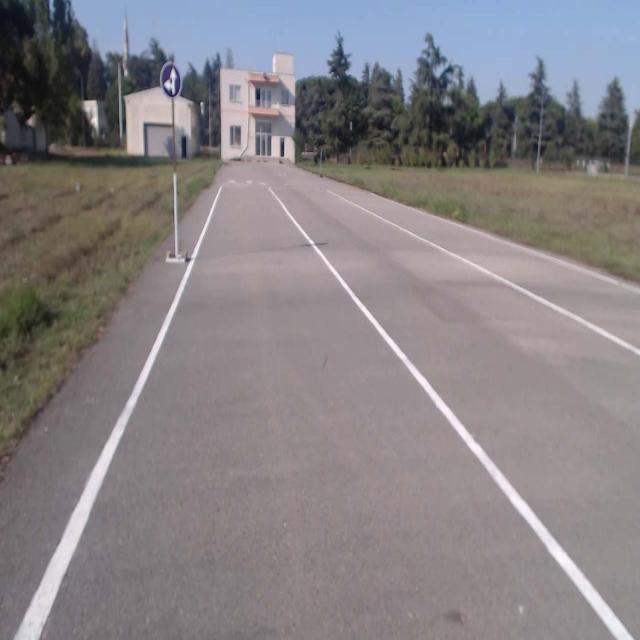ilerisol: (160, 64, 180, 97)
